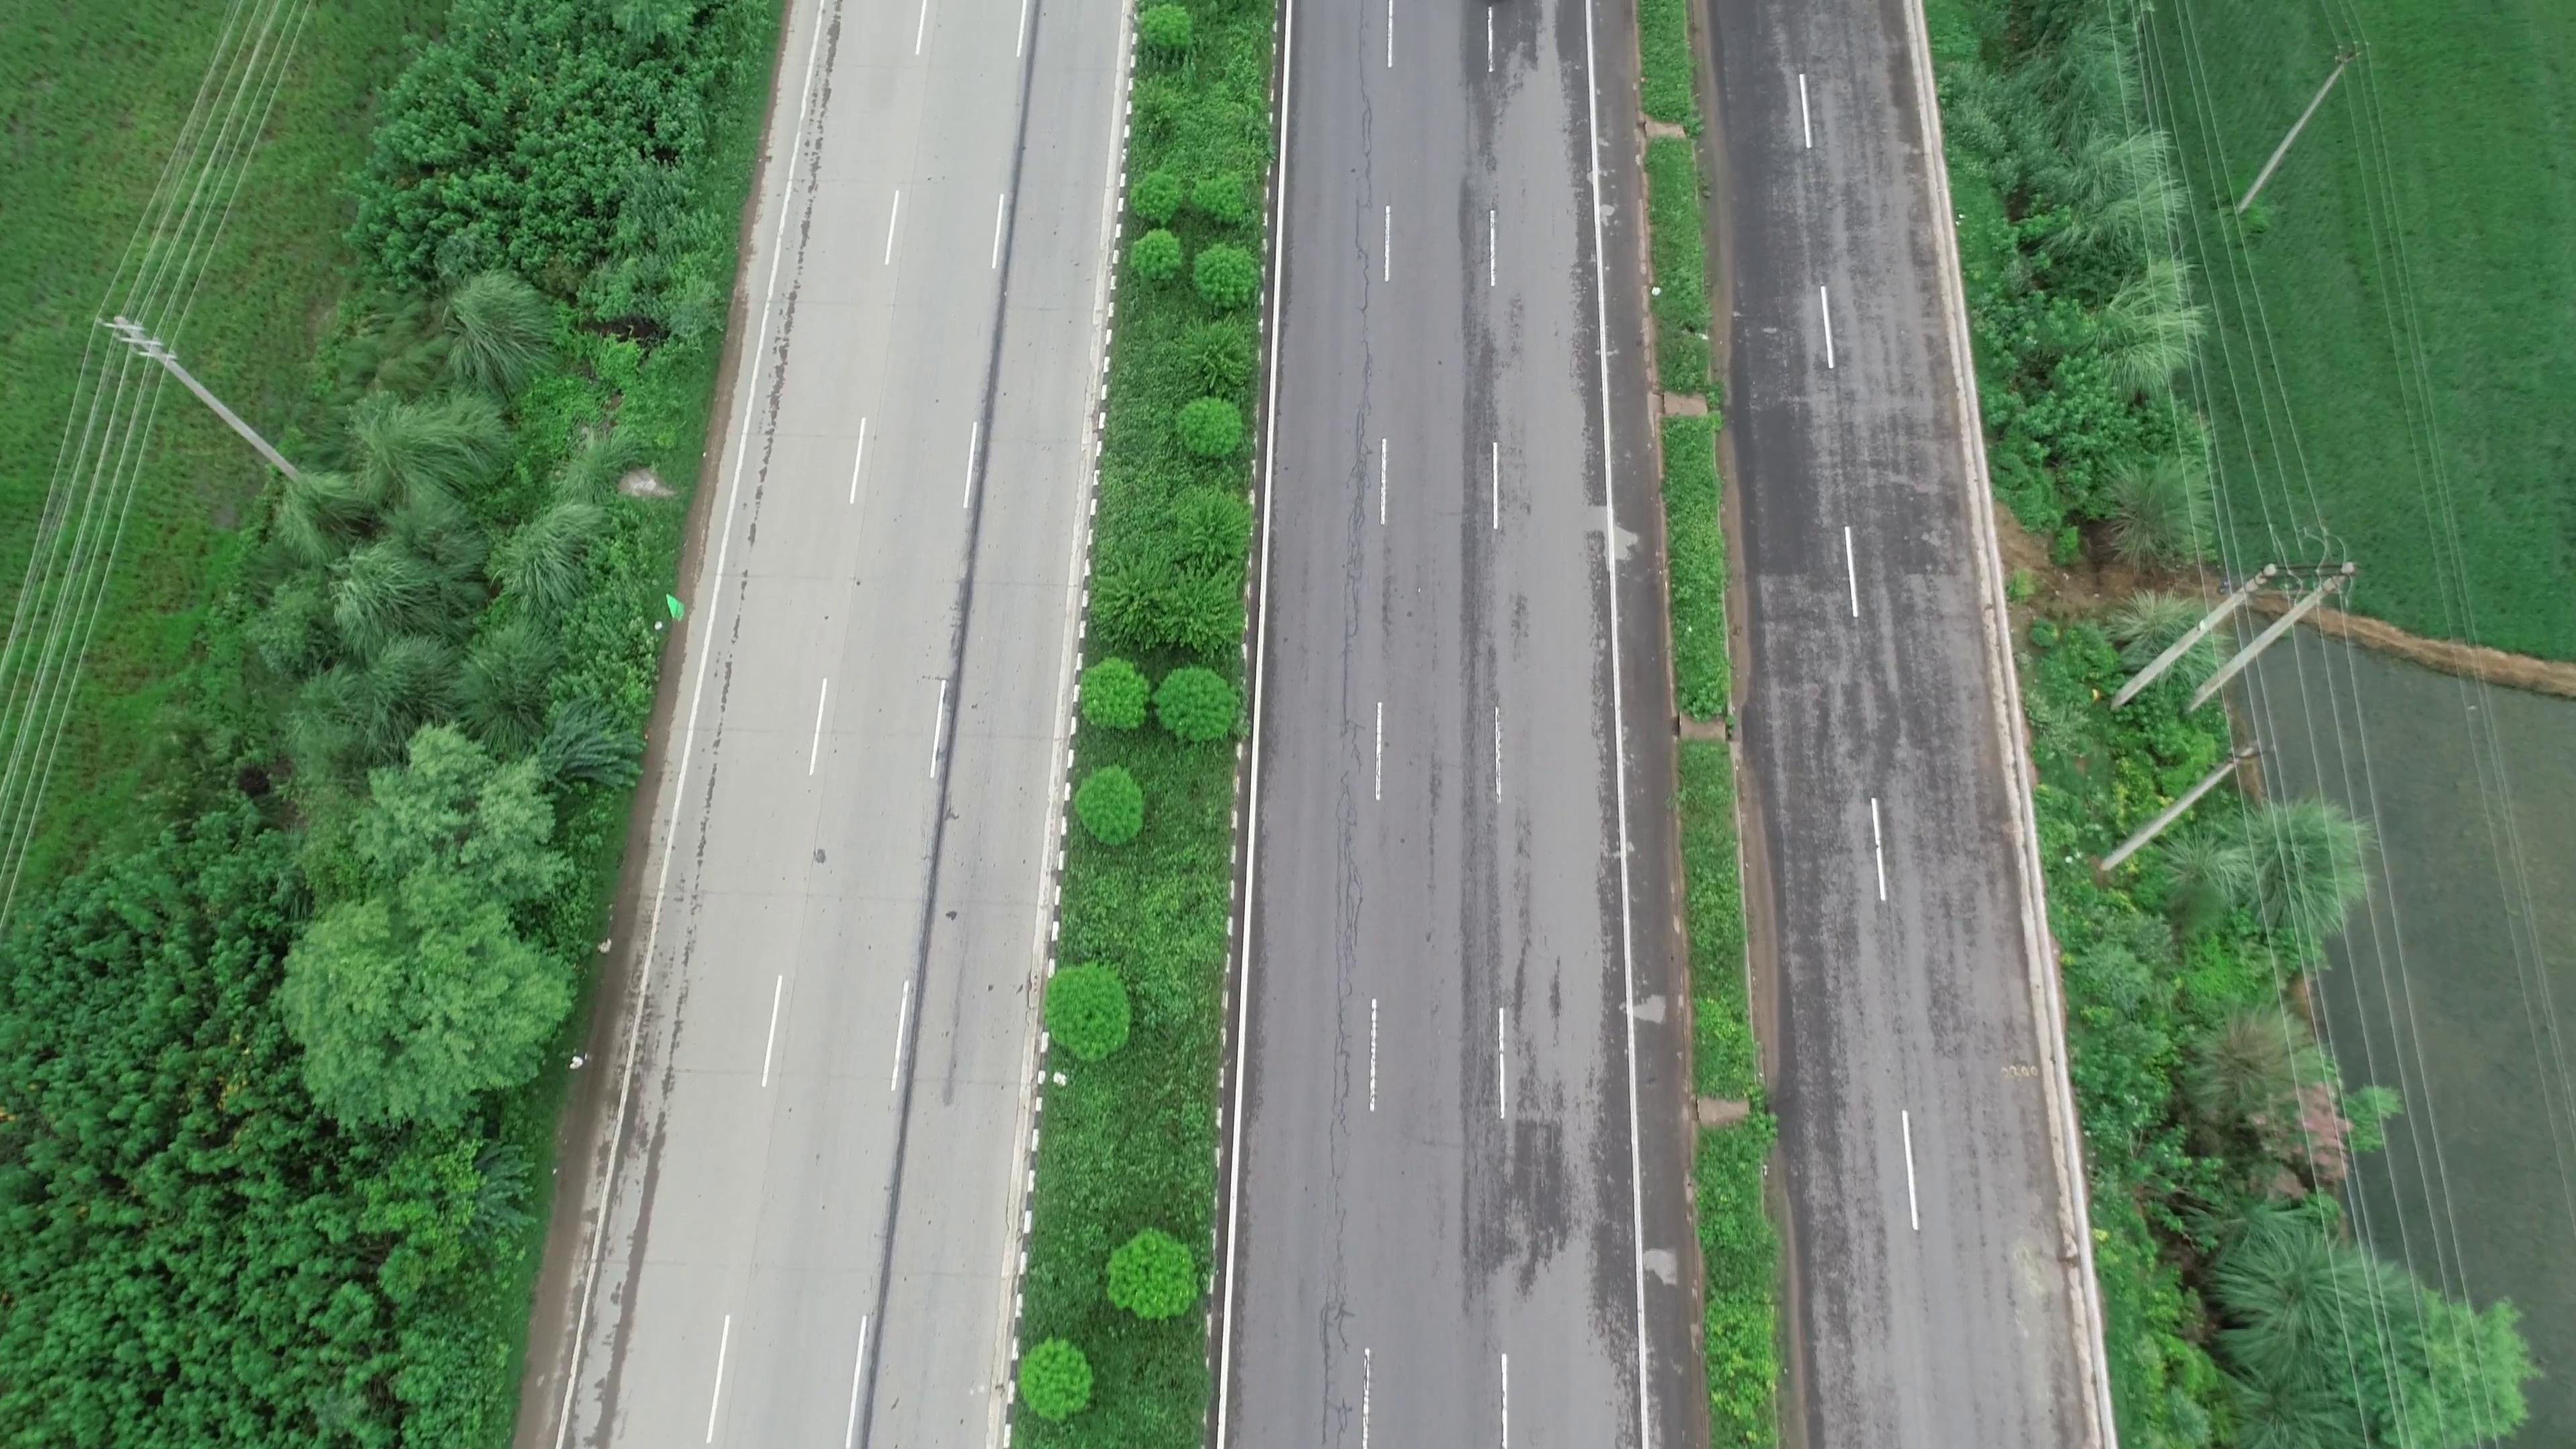Longitudinal_cracks: (1297, 655, 1376, 1447), (1306, 18, 1391, 619)
